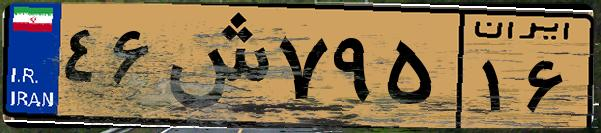1: (475, 38, 525, 113)
4: (57, 26, 110, 100)
5: (385, 28, 445, 110)
6: (525, 38, 570, 115), (110, 28, 158, 98)
7: (270, 28, 330, 110)
9: (330, 28, 385, 110)
ش: (158, 12, 270, 120)
